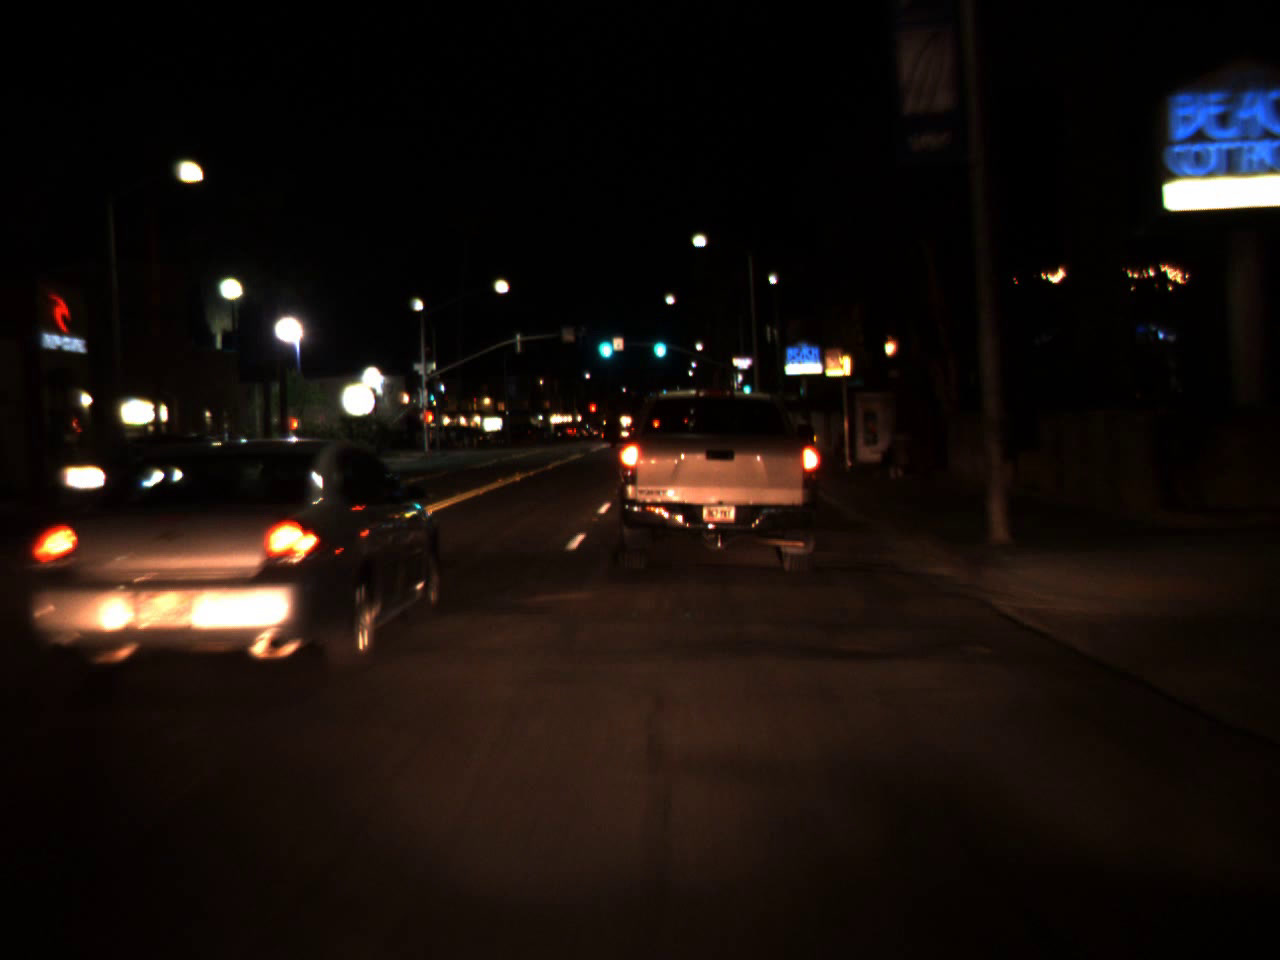go: (594, 322, 615, 364), (648, 327, 669, 360), (741, 377, 751, 395)
